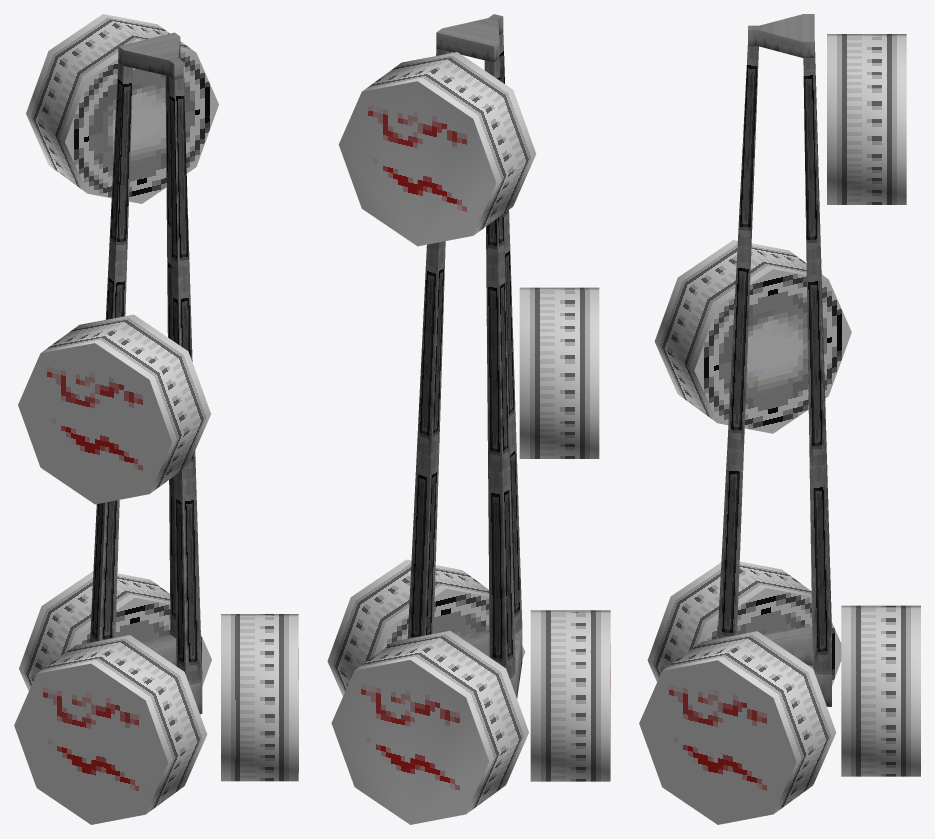
Rendered from Mis4_Booster_Station_04.glb.
The picture shows the model from 3 angles, left to right: view 1: azimuth 30°, elevation 25°; view 2: azimuth 150°, elevation 25°; view 3: azimuth 270°, elevation 25°; orthographic projection. The views are drawn at different scales.
Parts seen in each view (by area): view 1: MIS4_BOOSTER_STATION_04; view 2: MIS4_BOOSTER_STATION_04; view 3: MIS4_BOOSTER_STATION_04.
Part boxes in pixels (box(x1,y1,x2,y2)): MIS4_BOOSTER_STATION_04: box(14, 14, 298, 824); MIS4_BOOSTER_STATION_04: box(327, 14, 610, 824); MIS4_BOOSTER_STATION_04: box(639, 14, 920, 824).
Bounding box in the file's own units: 2.35 × 5.83 × 2.
5 materials, 5 textured.
